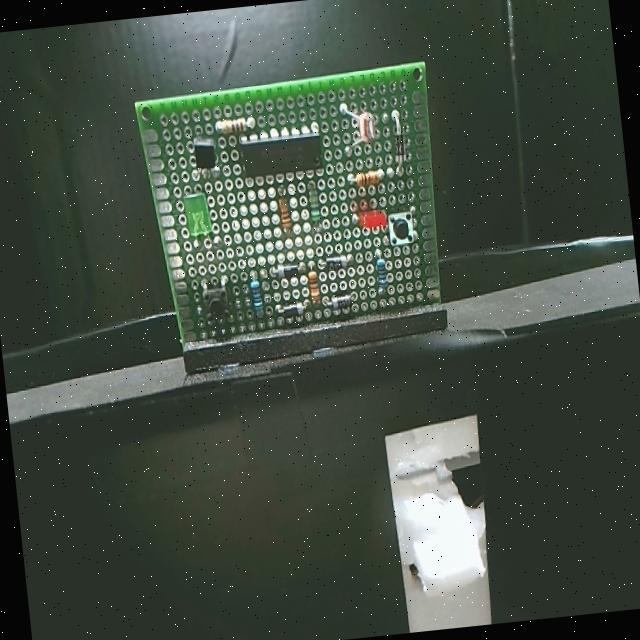IC: (236, 128, 326, 184)
cds: (351, 106, 377, 145)
diode: (388, 123, 413, 170), (323, 286, 356, 316), (276, 295, 306, 327), (322, 251, 353, 279), (274, 256, 302, 282)
led: (179, 184, 214, 238), (348, 206, 388, 235)
resistor: (242, 273, 272, 324), (213, 112, 252, 140), (305, 173, 324, 230), (354, 164, 385, 195), (305, 262, 325, 310), (272, 190, 294, 233), (370, 252, 390, 295)
switch: (198, 278, 236, 324), (383, 208, 415, 248)
transistor: (186, 132, 222, 178)
